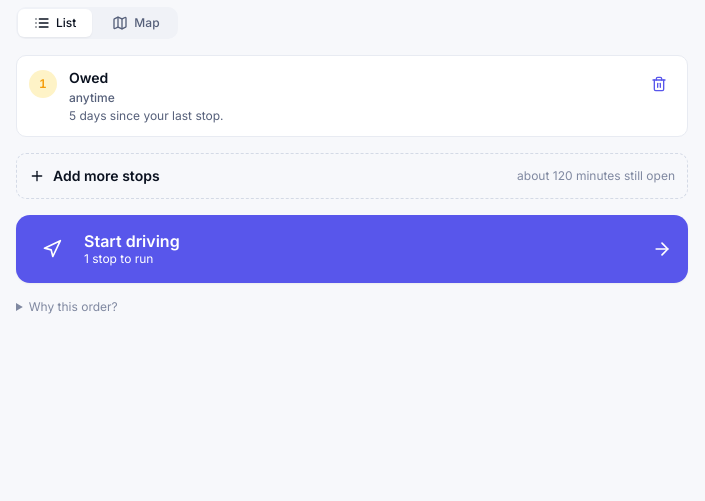
Test: TodaysPathView › shows the fill notice after a fill, with the new copy, an Undo affordance, and a dismiss that hides it
Expected: the text "to your day." is not shown
Click the button "Add more stops about 120 minutes still open" at (106, 176), box [16,153,688,199]
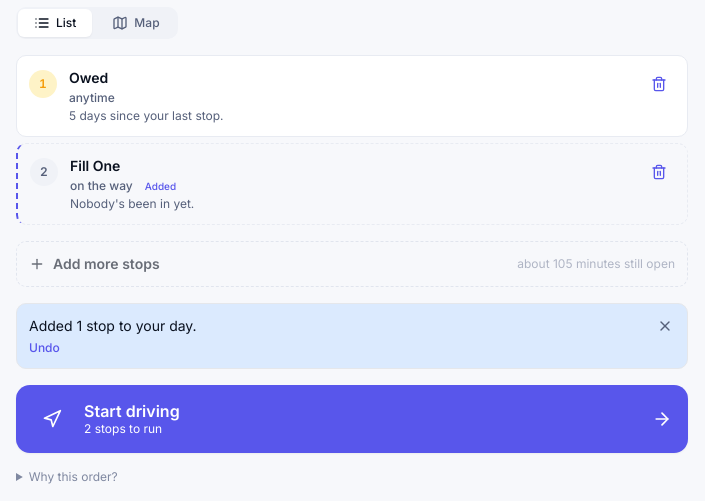
Expected: the text "Added 1 stop to your day." is shown, [29,317,197,334]
Expected: the button "Undo" is shown, [29,340,60,356]
Click the button named "dismiss" at (665, 326), box [651,312,679,340]
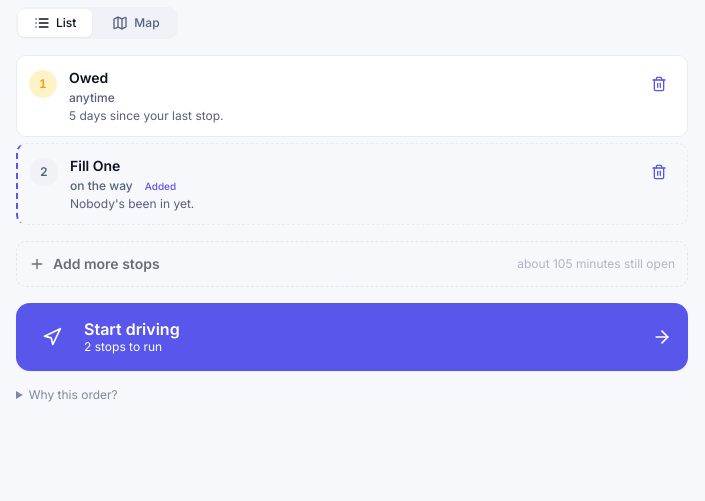
Expected: the text "Added 1 stop to your day." is gone
